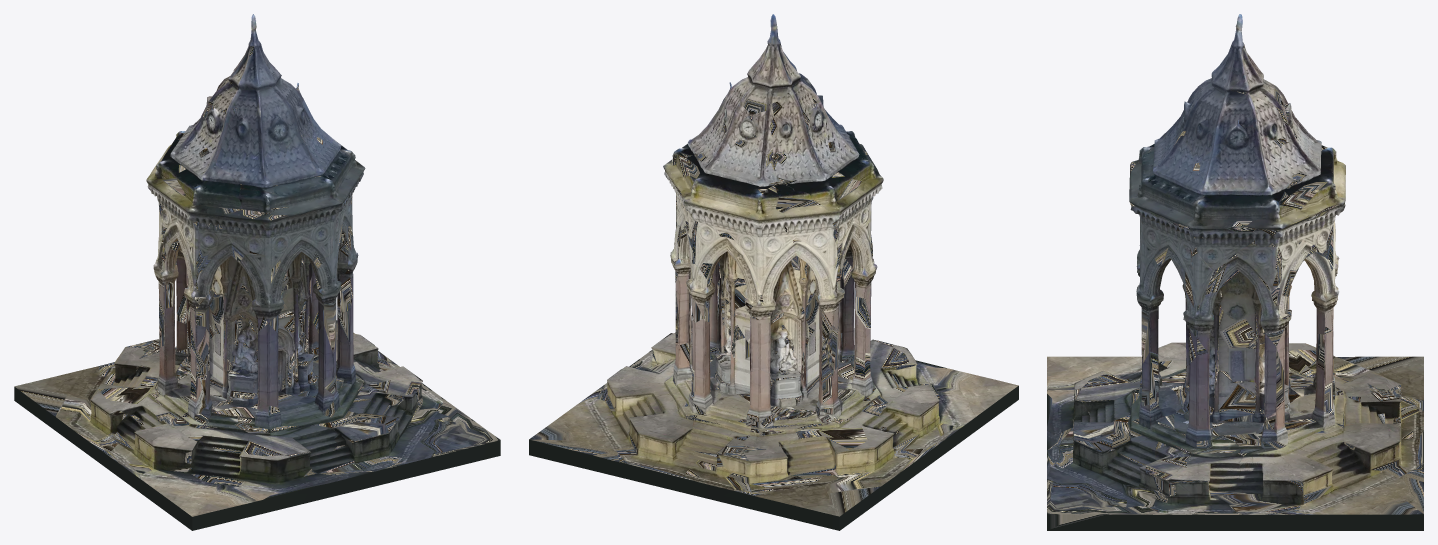
File: fountain.glb
3 renders of one model, left to right at view 1: azimuth 30°, elevation 25°; view 2: azimuth 150°, elevation 25°; view 3: azimuth 270°, elevation 25°, orthographic. The views are drawn at different scales.
Visible parts, largest first — view 1: Object_2; view 2: Object_2; view 3: Object_2.
Boxes of the visible parts, x1,y1,x2,y2 form: Object_2: (14,14,500,530); Object_2: (529,14,1018,530); Object_2: (1047,14,1423,530).
Size of the model in its own units: 114 by 146 by 114.
Materials: 1 (1 with a texture image).
